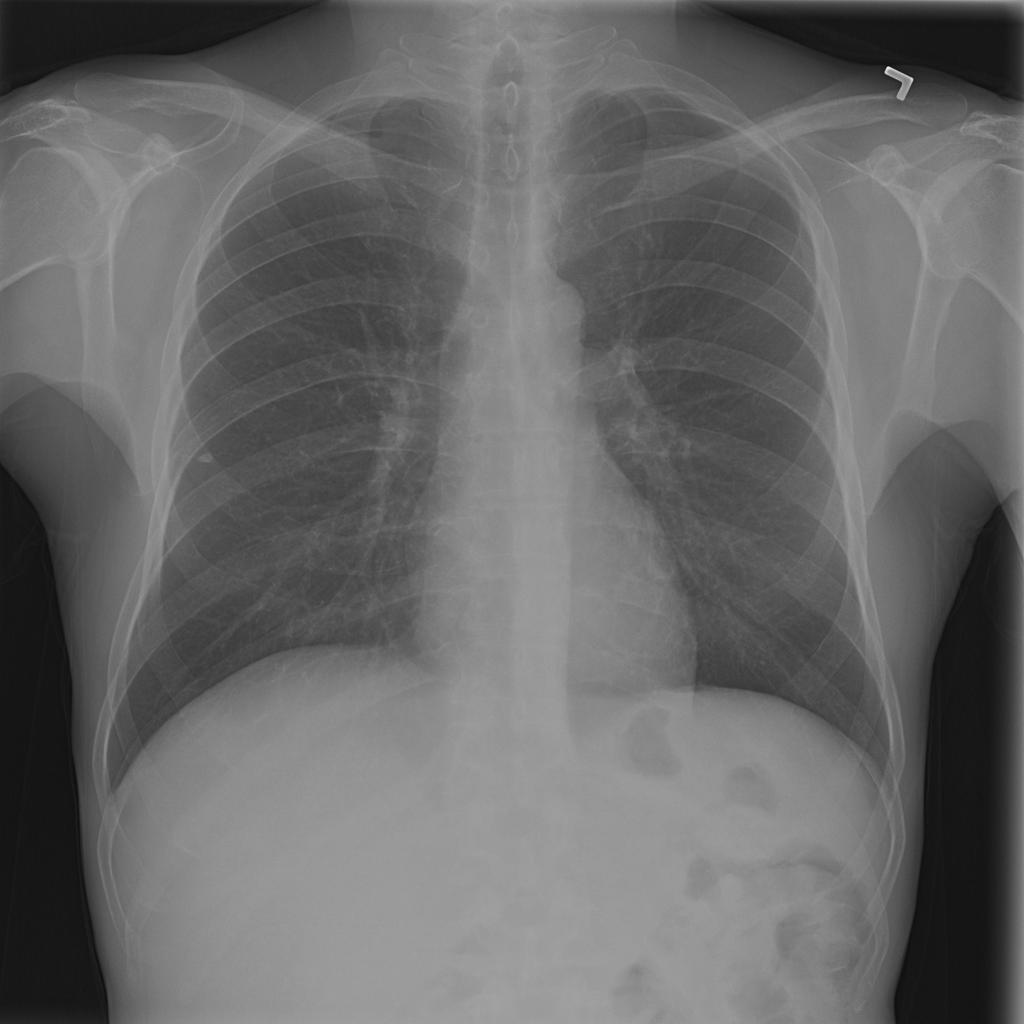nodule: (192, 444, 226, 471)
